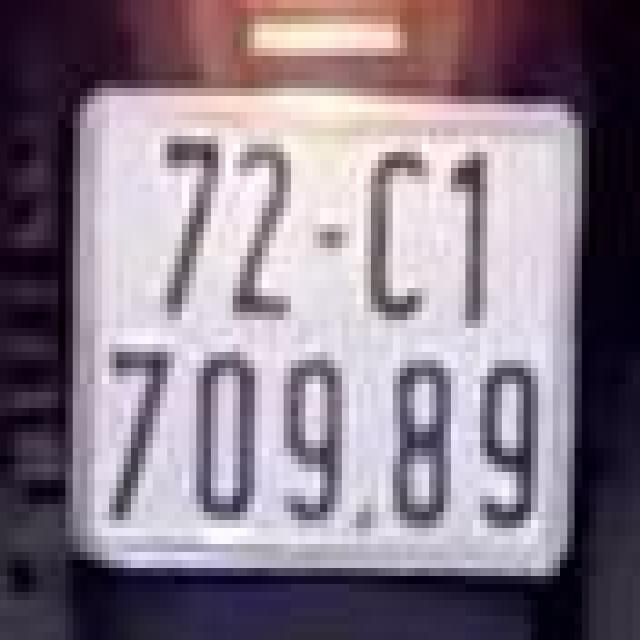0: (186, 344, 266, 520)
1: (440, 148, 498, 340)
2: (226, 128, 306, 328)
7: (91, 328, 171, 520), (142, 116, 214, 316)
8: (389, 344, 455, 536)
9: (466, 360, 546, 552), (276, 348, 349, 532)
C: (356, 140, 444, 340)
